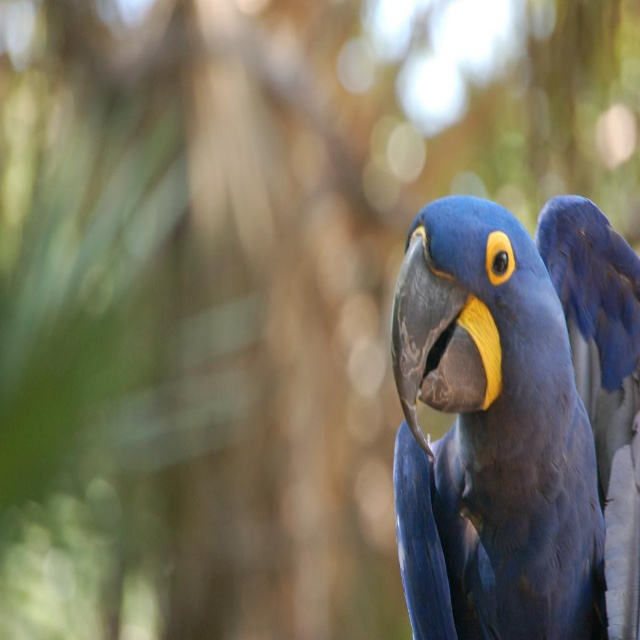Parrot: (390, 196, 640, 639)
